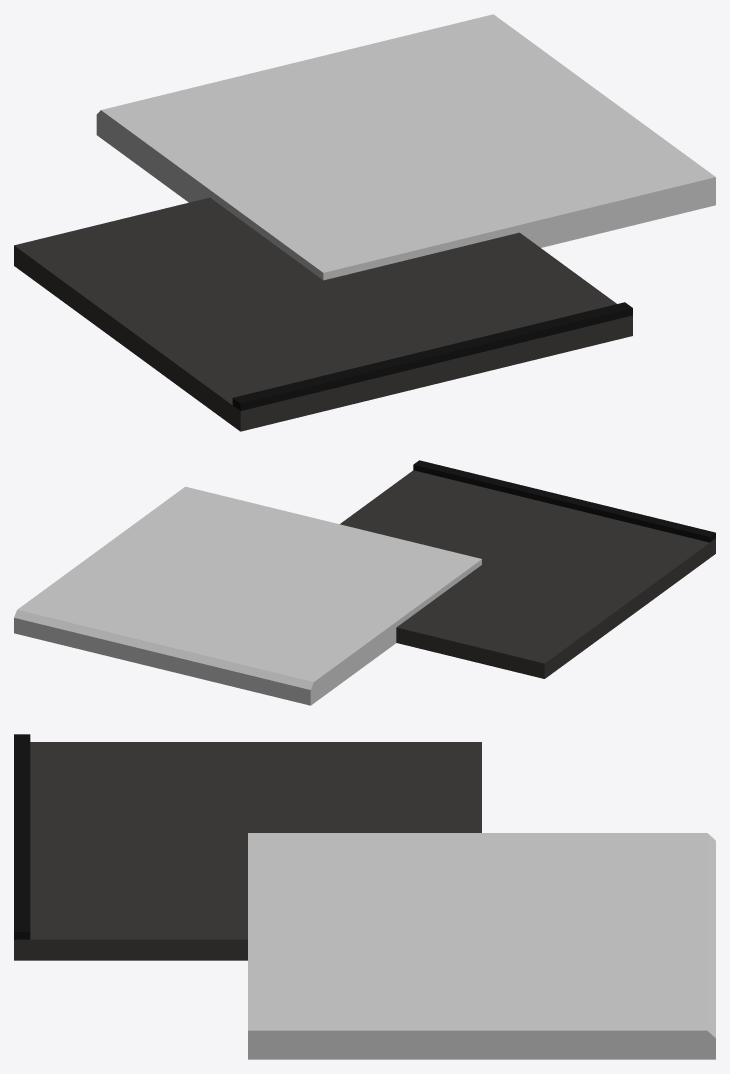
File: SM_Factory_Ground_03.fbx
The picture shows the model from 3 angles, top to bottom: view 1: azimuth 30°, elevation 25°; view 2: azimuth 150°, elevation 25°; view 3: azimuth 270°, elevation 25°; orthographic projection. The views are drawn at different scales.
Visible parts, largest first — view 1: SM_Factory_Ground_03_ConvexHulls, SM_Factory_Ground_03; view 2: SM_Factory_Ground_03_ConvexHulls, SM_Factory_Ground_03; view 3: SM_Factory_Ground_03_ConvexHulls, SM_Factory_Ground_03.
Boxes of the visible parts, x1,y1,x2,y2 form: SM_Factory_Ground_03_ConvexHulls: [96, 14, 715, 280]; SM_Factory_Ground_03: [14, 197, 632, 431]; SM_Factory_Ground_03_ConvexHulls: [14, 486, 481, 705]; SM_Factory_Ground_03: [340, 460, 715, 678]; SM_Factory_Ground_03_ConvexHulls: [248, 833, 715, 1059]; SM_Factory_Ground_03: [14, 734, 481, 960].
Bounding box in the file's own units: 750 × 750 × 34.29.
2 materials, 1 textured.
